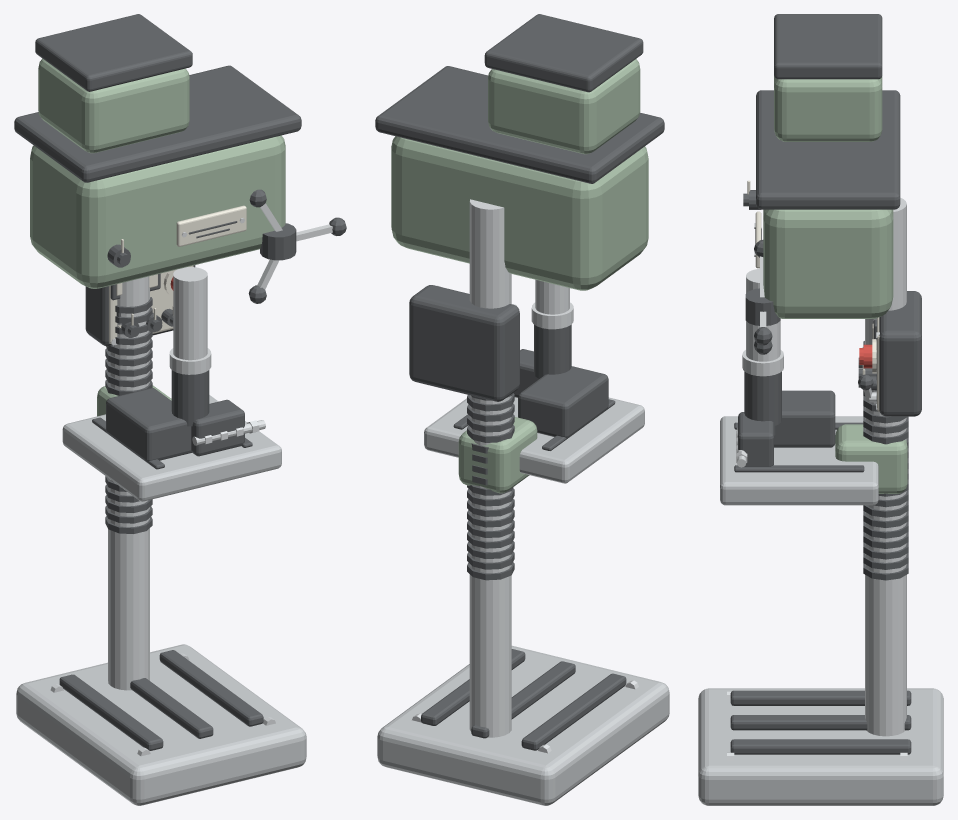
File: pillar-drill-press-floor-standing.glb
3 renders of one model, left to right at view 1: azimuth 30°, elevation 25°; view 2: azimuth 150°, elevation 25°; view 3: azimuth 270°, elevation 25°, orthographic.
Visible parts, largest first — view 1: machine-shop-and-factory-hall-pillar-drill, quill-travel, spindle-spin; view 2: machine-shop-and-factory-hall-pillar-drill, spindle-spin, quill-travel; view 3: machine-shop-and-factory-hall-pillar-drill, quill-travel, spindle-spin.
Part boxes in pixels (x1=…): machine-shop-and-factory-hall-pillar-drill: x1=14, y1=14, x2=346, y2=805; quill-travel: x1=169, y1=267, x2=211, y2=374; spindle-spin: x1=171, y1=370, x2=209, y2=426; machine-shop-and-factory-hall-pillar-drill: x1=375, y1=14, x2=669, y2=805; spindle-spin: x1=534, y1=324, x2=571, y2=378; quill-travel: x1=531, y1=279, x2=573, y2=329; machine-shop-and-factory-hall-pillar-drill: x1=698, y1=14, x2=943, y2=805; quill-travel: x1=742, y1=268, x2=783, y2=376; spindle-spin: x1=744, y1=371, x2=781, y2=435.
Bounding box in the file's own units: 0.846 × 2.16 × 0.68.
